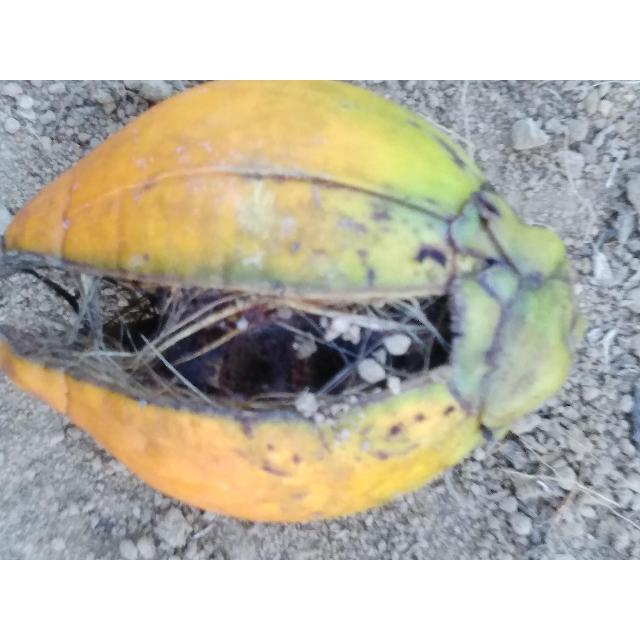damaged: (0, 80, 587, 526)
